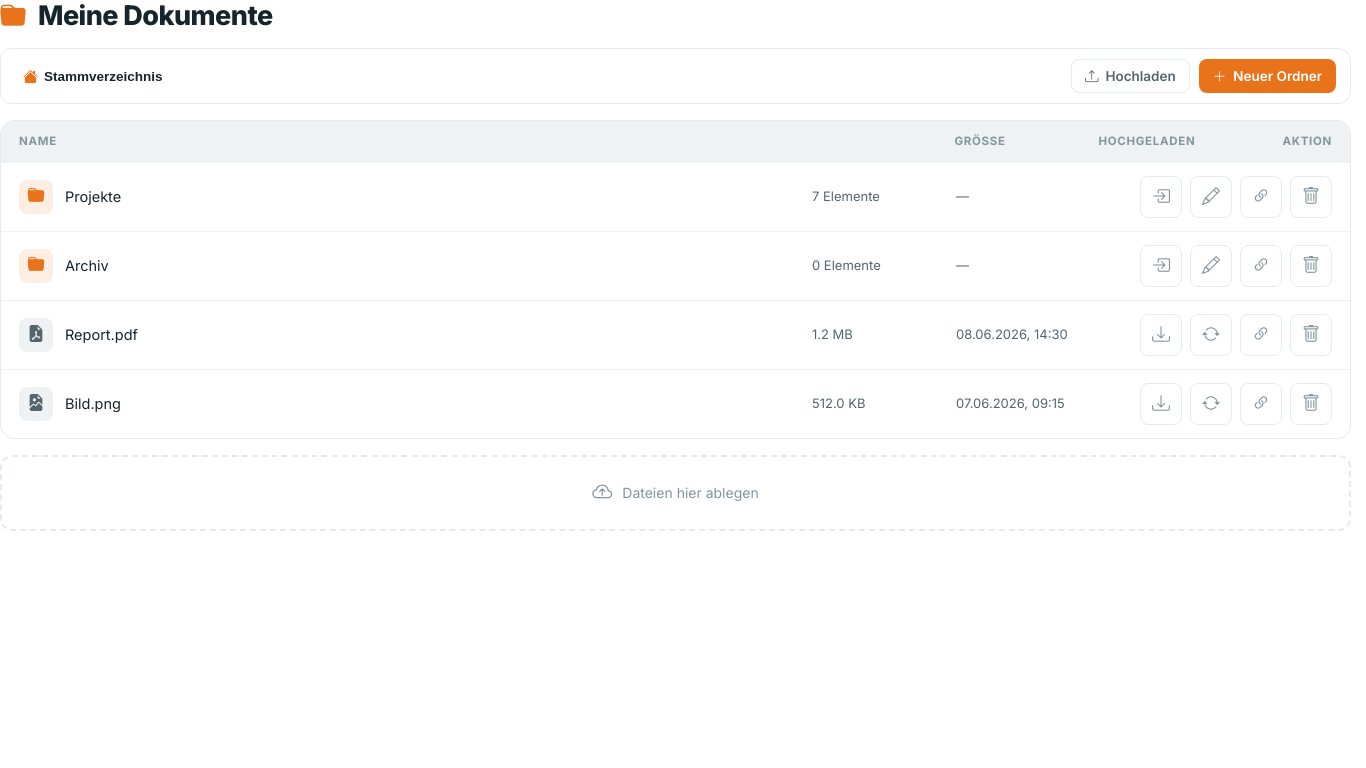
PortalDocuments › Ordner-Aktionen › Given Ordner mit Inhalt, When Löschen geklickt, Then ConfirmDialog mit Warnung angezeigt
Expected: the text "Projekte" is shown, [65, 185, 121, 208]
Click the button titled "Löschen" in the row of "7 Elemente" at (1311, 197), box [1290, 176, 1332, 218]
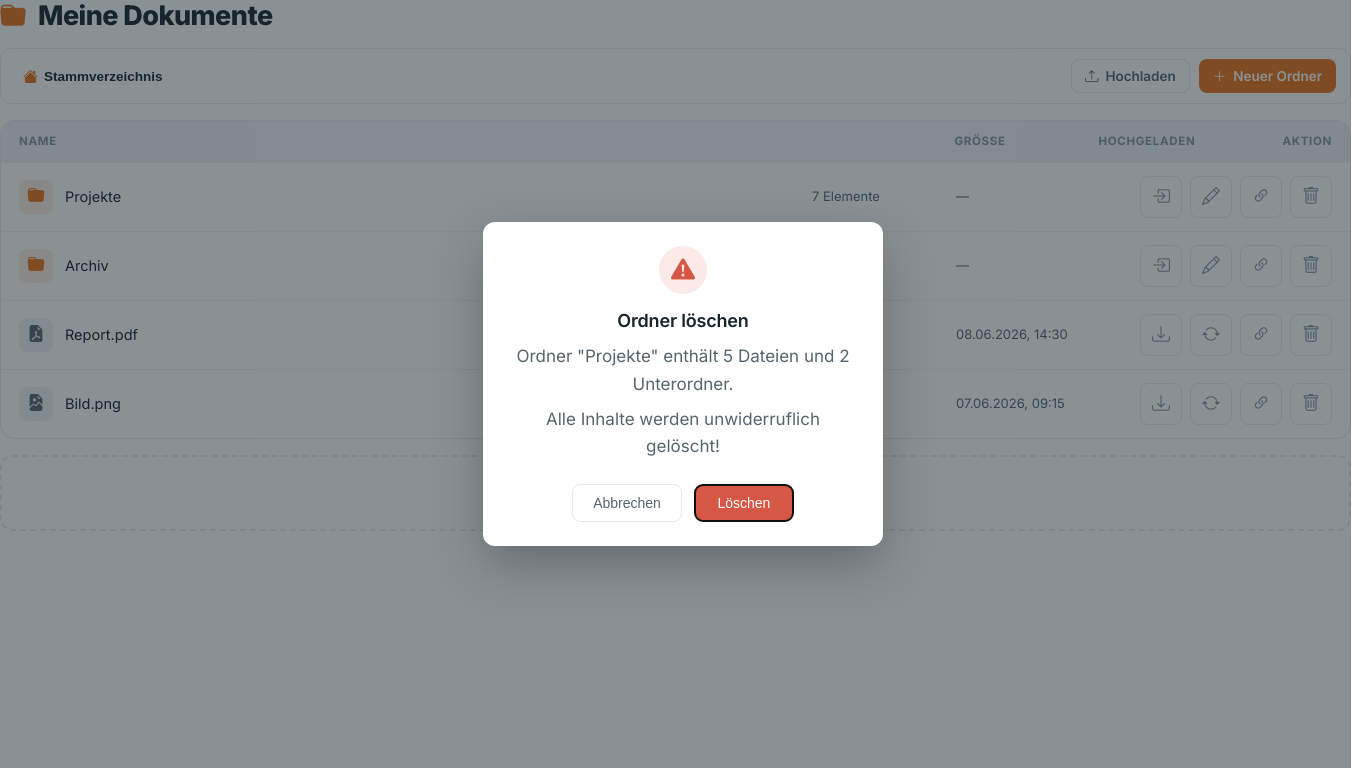
Expected: the dialog is shown, [483, 222, 883, 546]
Expected: the heading "Ordner löschen" is shown, [617, 310, 749, 331]
Expected: the text "Ordner \"Projekte\" enthält 5 Dateien und 2 Unterordner." is shown, [507, 343, 859, 398]
